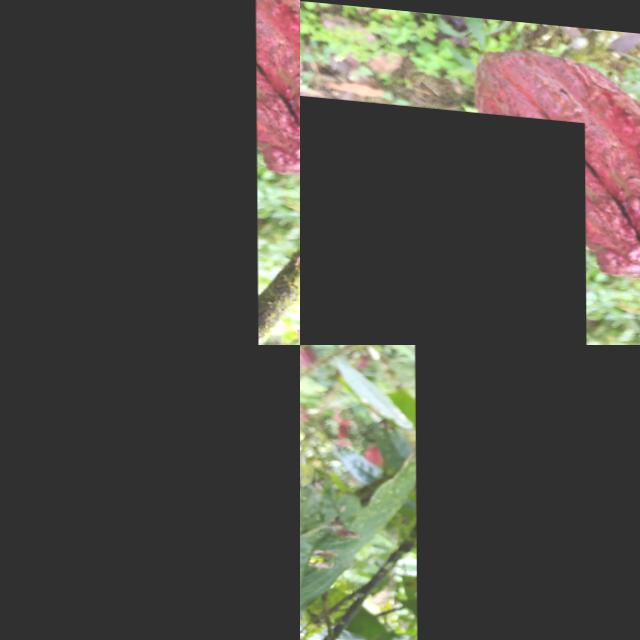Sana: (0, 0, 258, 345), (0, 345, 300, 640), (300, 86, 587, 345), (414, 345, 640, 640)
